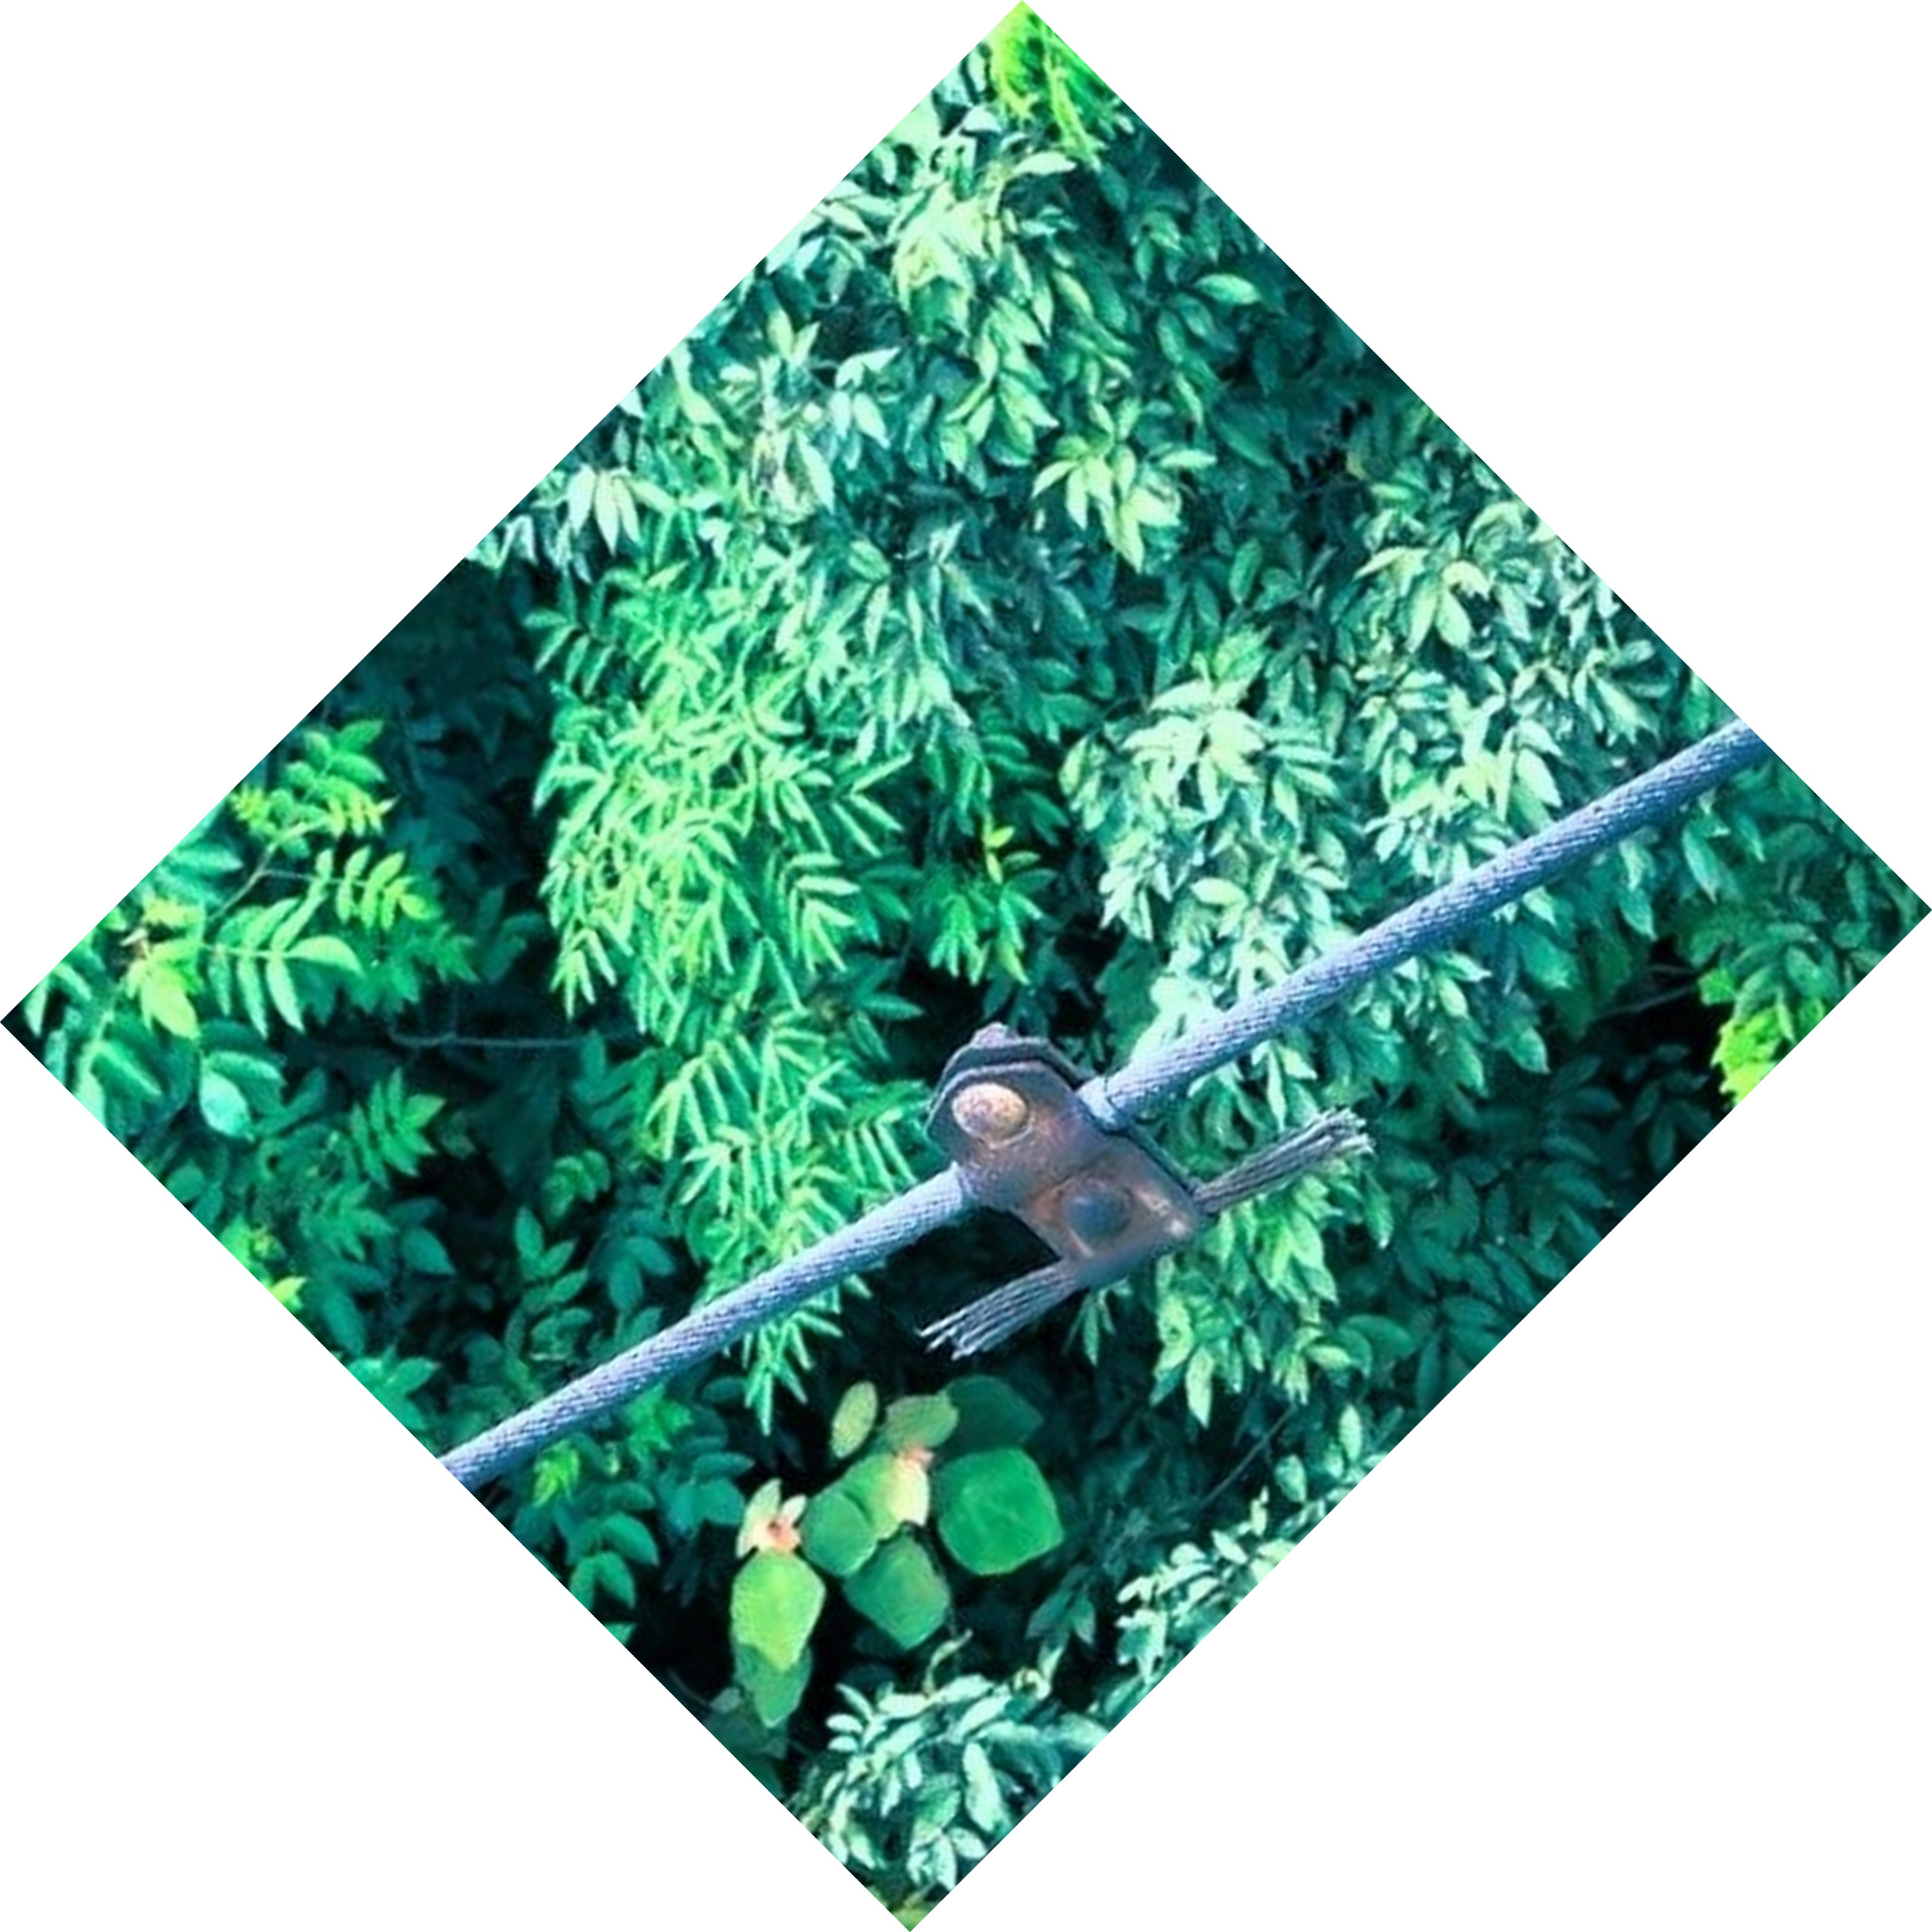Damage of shockproof hammer: (867, 973, 1392, 1414)
